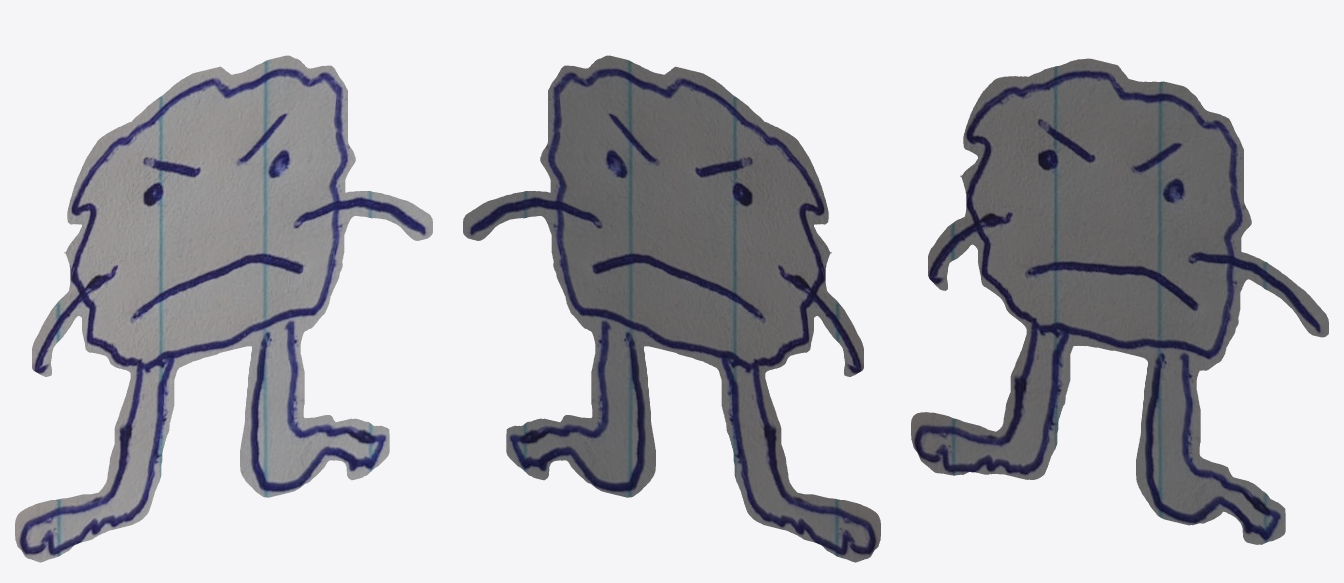
File: GOON.fbx
3 views of the same model, side by side, from view 1: azimuth 30°, elevation 25°; view 2: azimuth 150°, elevation 25°; view 3: azimuth 330°, elevation 25° (orthographic).
Visible parts, largest first — view 1: Plane; view 2: Plane; view 3: Plane.
Part boxes in pixels (left/top/right/bottom): Plane: left=15, top=55, right=432, bottom=562; Plane: left=463, top=55, right=880, bottom=562; Plane: left=911, top=58, right=1328, bottom=544.
Size of the model in its own units: 605 by 625 by 3.33.
Materials: 1 (1 with a texture image).
